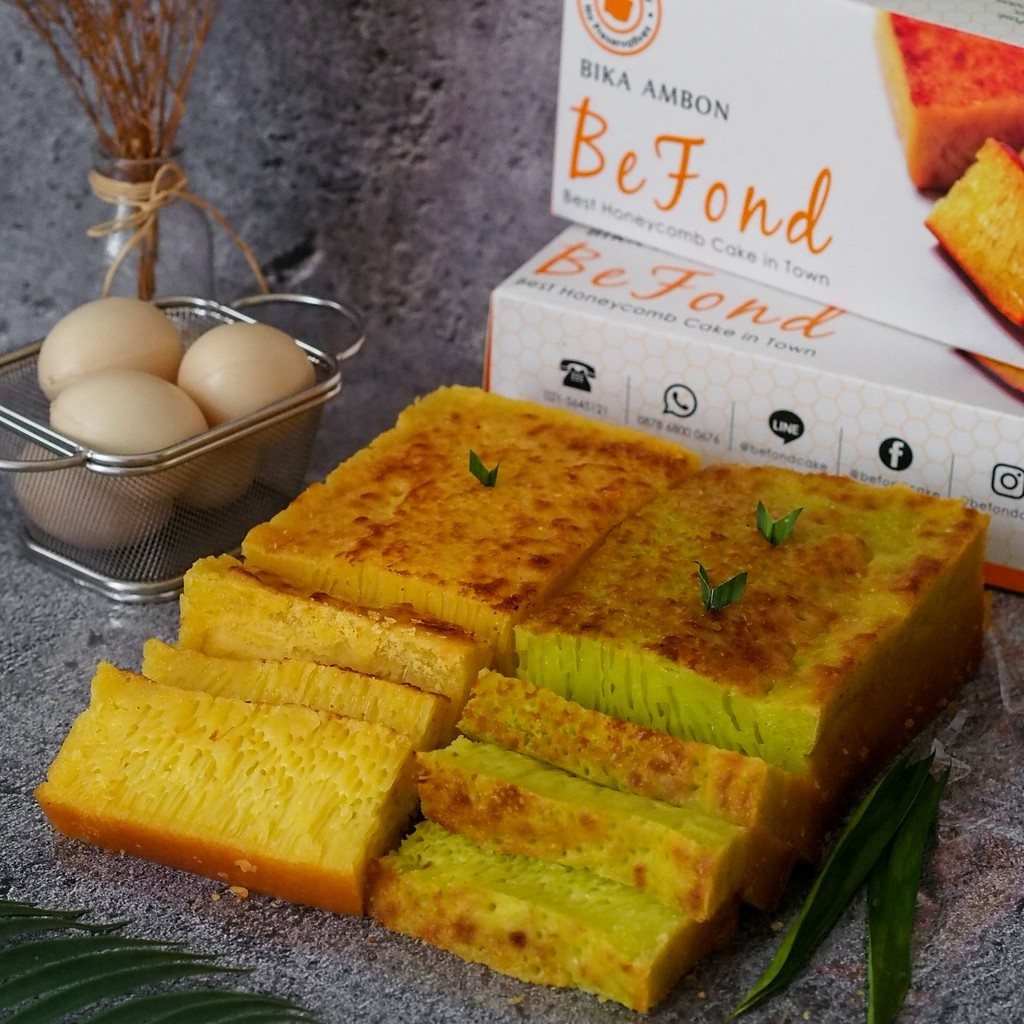bika_ambon: (343, 558, 816, 983), (24, 650, 412, 915), (220, 516, 452, 795)
